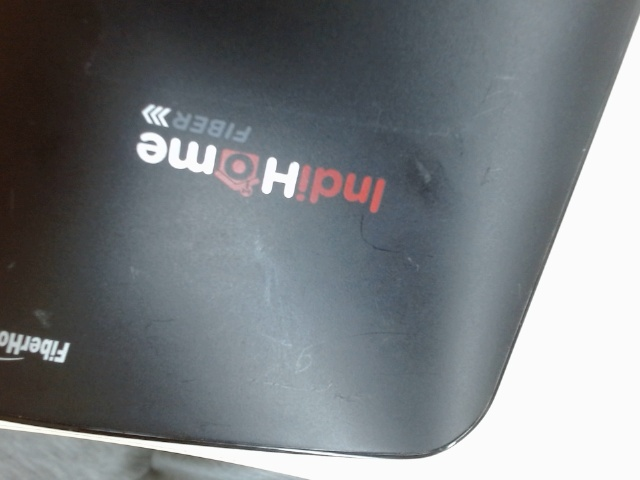AF_IndiHome: (123, 93, 398, 219)
